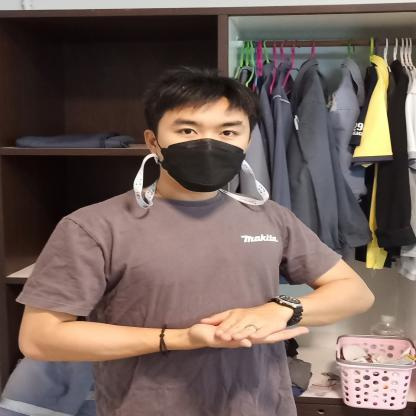Love: (133, 285, 339, 386)
